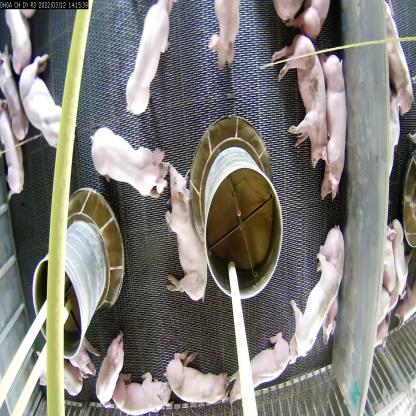Pig: (266, 31, 330, 175), (16, 51, 82, 155), (122, 0, 178, 122), (166, 162, 211, 308), (87, 123, 170, 202), (288, 252, 340, 370), (224, 330, 292, 408), (316, 48, 348, 206), (161, 346, 231, 412), (314, 219, 346, 350), (379, 2, 416, 114), (0, 91, 26, 212), (0, 42, 30, 146), (31, 344, 84, 401), (2, 0, 38, 77), (111, 370, 172, 415), (209, 0, 244, 76), (95, 326, 125, 411), (391, 216, 412, 305), (296, 0, 334, 41), (387, 86, 403, 182), (67, 338, 100, 382), (392, 280, 416, 335), (382, 224, 398, 304), (375, 280, 391, 332), (270, 1, 305, 23), (373, 316, 392, 350)
